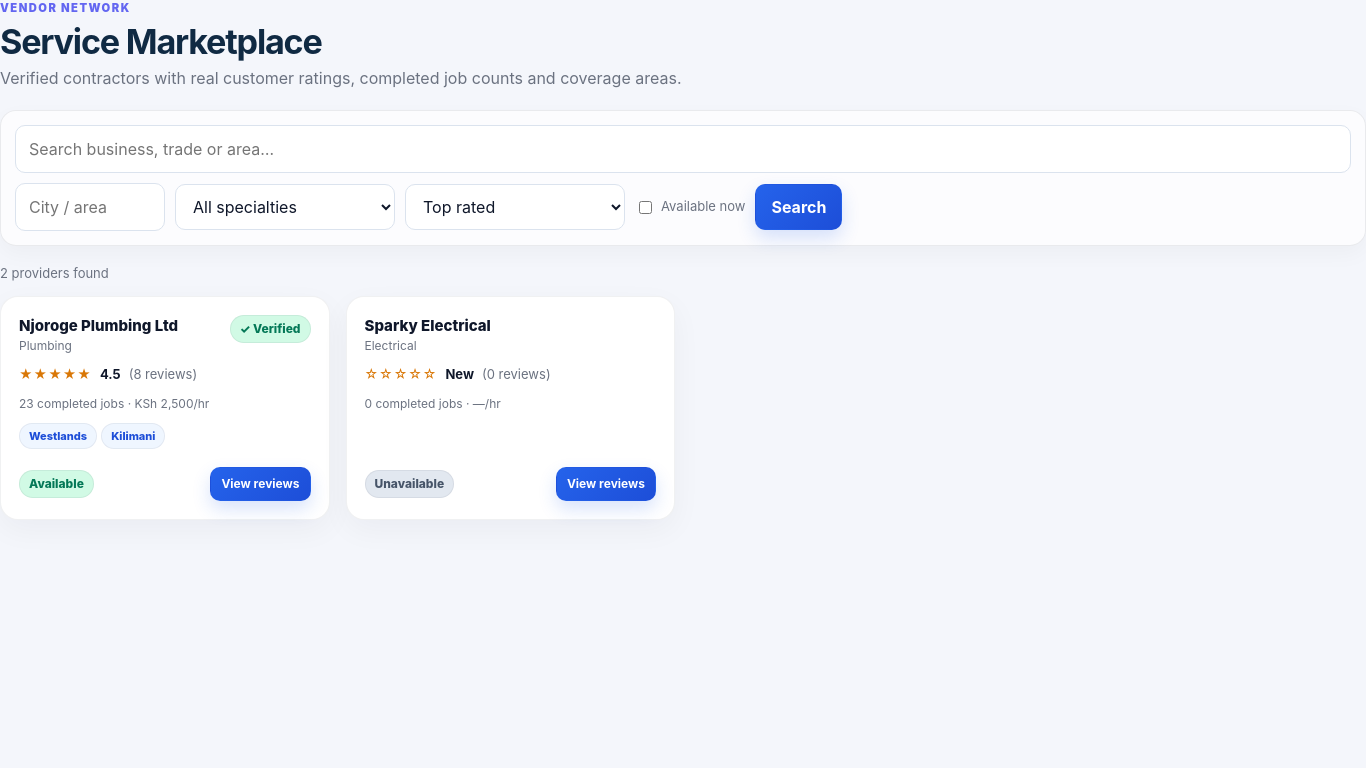
it: Marketplace › opens the reviews modal and lists masked reviewer feedback
Check: the text "Njoroge Plumbing Ltd" is shown, box x1=19 y1=315 x2=178 y2=337
What coordinates should you click on to do the following:
click the button "View reviews" below "Westlands"
I would click on:
 (260, 484)
Its box is x1=210 y1=467 x2=310 y2=501.
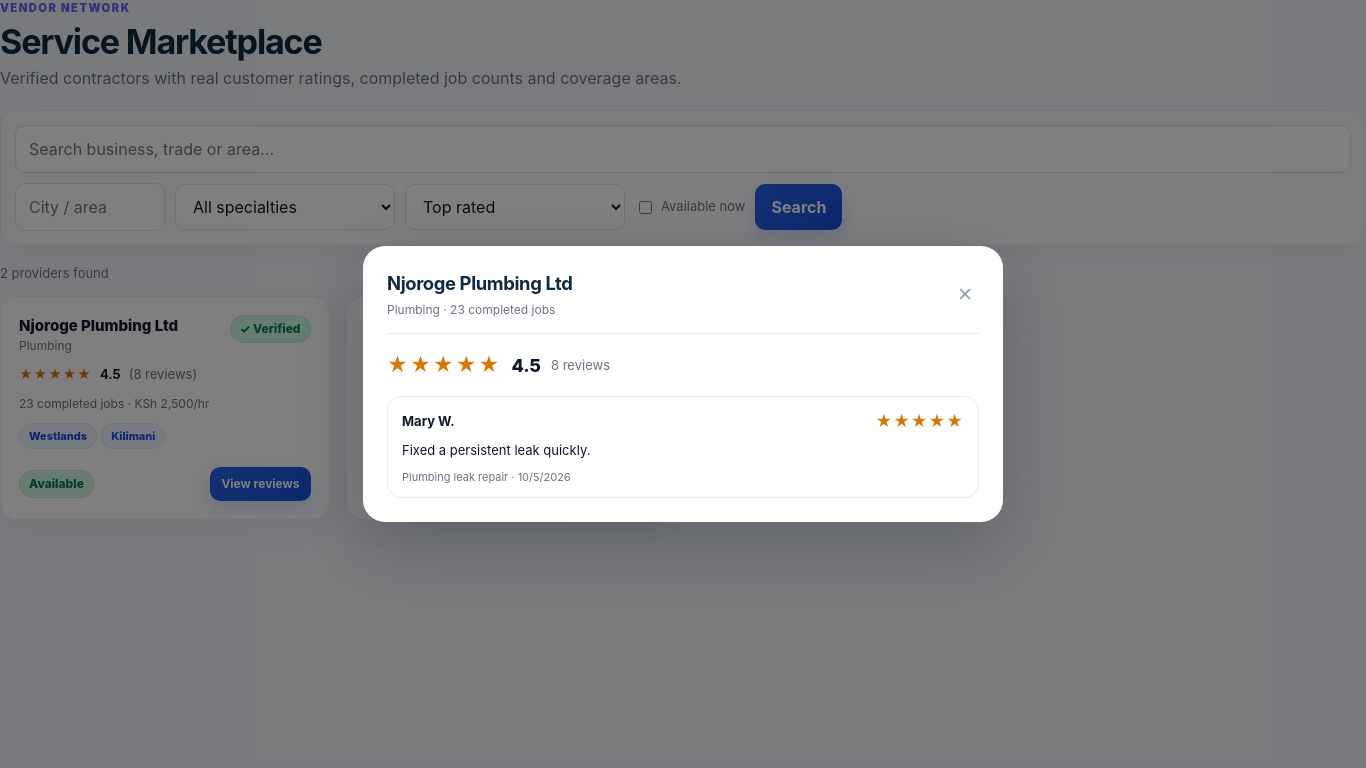
Check: the text "Mary W." is shown, box x1=402 y1=412 x2=455 y2=431
Check: the text "Fixed a persistent leak quickly." is shown, box x1=402 y1=442 x2=590 y2=458
Check: the text "Plumbing leak repair · 10/5/2026" is shown, box x1=402 y1=470 x2=571 y2=484
